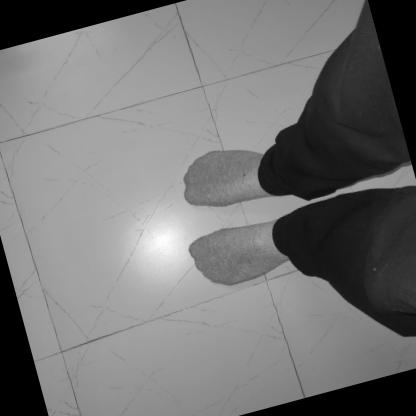ankle: (270, 234, 276, 239), (263, 184, 268, 188)
heel: (280, 217, 285, 222), (285, 190, 288, 193)
left_foot: (185, 211, 300, 294)
pinky: (230, 278, 235, 283), (209, 153, 214, 158)
right_foot: (175, 133, 292, 220)
toe: (195, 246, 200, 252), (191, 196, 196, 202)
